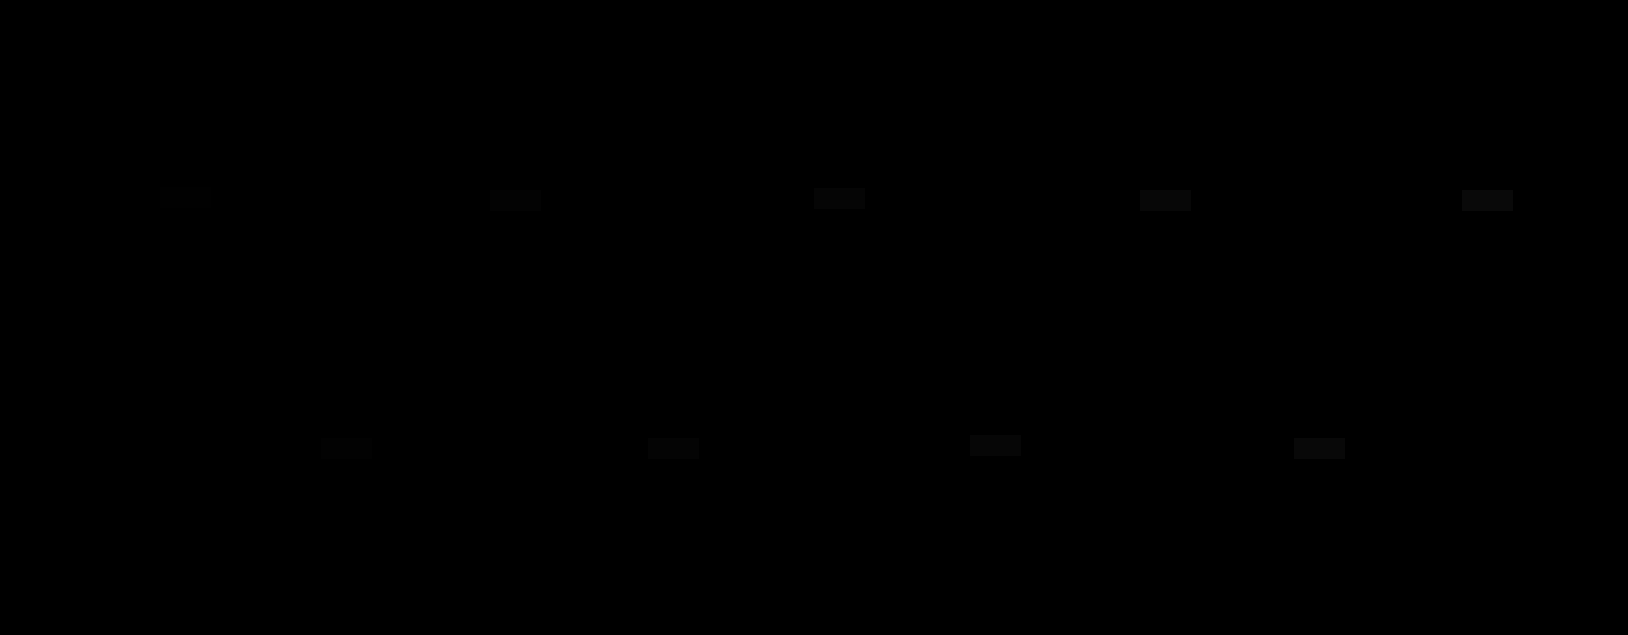light: (160, 187, 211, 208), (321, 438, 372, 459), (490, 190, 541, 211), (648, 438, 699, 459), (814, 188, 865, 209), (970, 435, 1021, 455), (1140, 190, 1191, 211), (1294, 438, 1345, 459), (1462, 190, 1513, 211)
